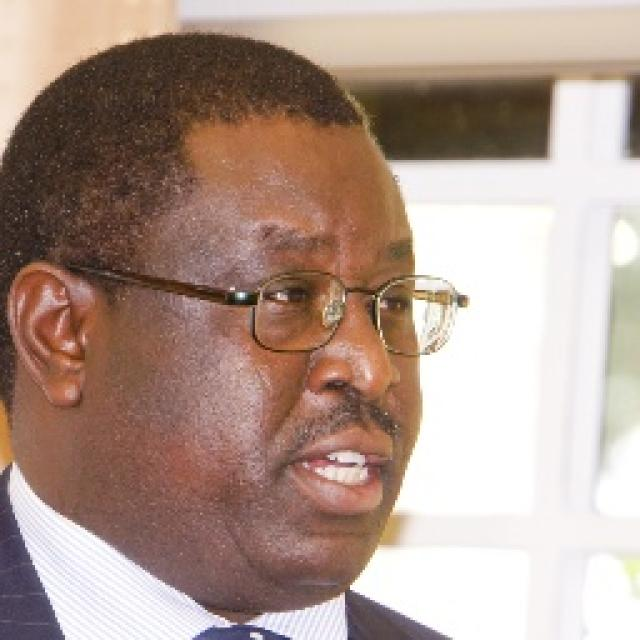earlobe: (9, 258, 91, 406)
